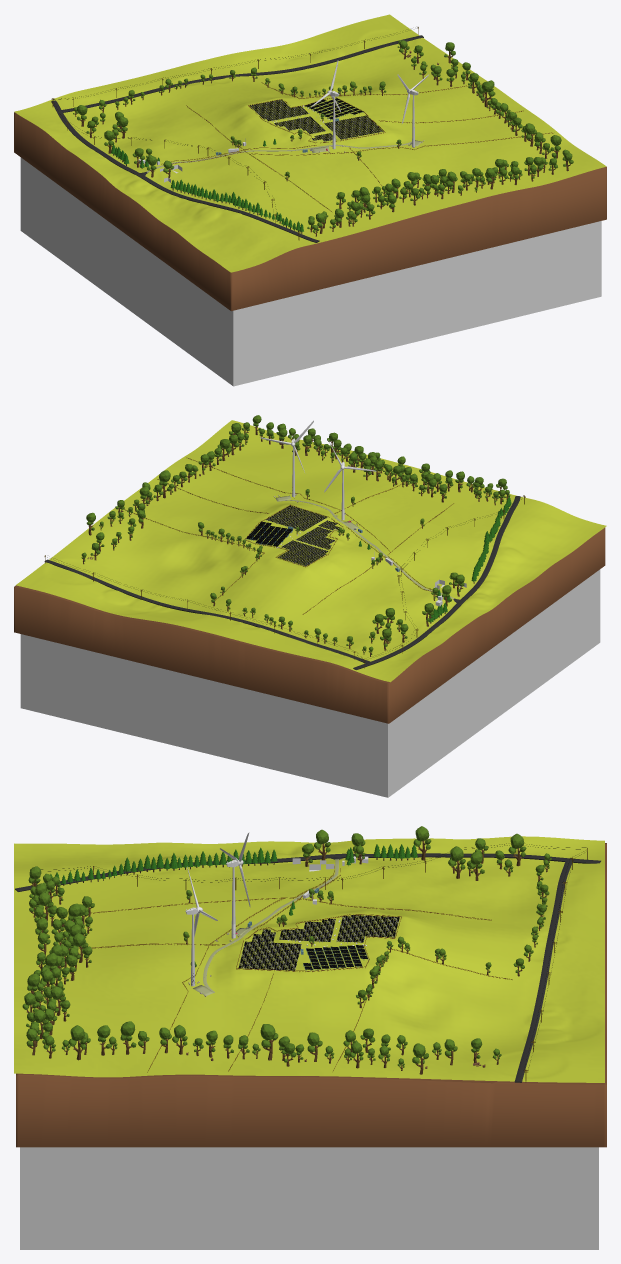
File: little-hepburn-energy-draco.glb
The picture shows the model from 3 angles, top to bottom: view 1: azimuth 30°, elevation 25°; view 2: azimuth 150°, elevation 25°; view 3: azimuth 270°, elevation 25°; orthographic projection. The views are drawn at different scales.
Visible parts, largest first — view 1: Grass, Base, Soil, Tree-group-south, Tree-group-east, Tree-group-west-02, Road-01, Tree-group-west-01, Tree-group-north, Road-02, solar-array-a-frame-01, solar-array-a-frame-04 (+2 smaller); view 2: Grass, Base, Soil, Tree-group-south, Tree-group-east, Tree-group-west-01, Road-01, Road-02, Tree-group-north, solar-array-a-frame-01, Tree-group-west-02, solar-array-a-frame-04 (+1 smaller); view 3: Grass, Base, Soil, Tree-group-south, Tree-group-east, Tree-group-west-02, Tree-group-west-01, Tree-group-north, Road-02, solar-array-a-frame-01, solar-array-a-frame-04, Road-01 (+3 smaller).
Part boxes in pixels (x1,y1,x2,y2): Grass: (14,14,606,272); Base: (20,157,601,386); Soil: (14,112,606,311); Tree-group-south: (307,153,573,236); Tree-group-east: (397,40,569,167); Tree-group-west-02: (111,144,303,233); Road-01: (51,100,319,242); Tree-group-west-01: (77,105,174,177); Tree-group-north: (73,67,386,116); Road-02: (61,35,423,112); solar-array-a-frame-01: (324,115,383,140); solar-array-a-frame-04: (250,99,308,121); Grass: (16,420,606,682); Base: (20,569,600,797); Soil: (14,527,605,723); Tree-group-south: (252,415,510,505); Tree-group-east: (81,422,264,564); Tree-group-west-01: (369,572,464,650); Road-01: (353,496,520,669); Road-02: (44,559,370,663); Tree-group-north: (198,522,373,656); solar-array-a-frame-01: (266,505,327,531); Tree-group-west-02: (428,496,511,623); solar-array-a-frame-04: (278,540,327,565); Grass: (14,836,604,1082); Base: (20,1147,598,1249); Soil: (16,843,606,1147); Tree-group-south: (22,866,94,1055); Tree-group-east: (42,1021,501,1074); Tree-group-west-02: (50,844,417,885); Tree-group-west-01: (302,826,526,880); Tree-group-north: (356,853,551,1008); Road-02: (514,860,571,1082); solar-array-a-frame-01: (238,941,301,970); solar-array-a-frame-04: (336,915,399,943); Road-01: (15,853,600,891).
Bounding box in the file's own units: 502 × 279 × 502.
Materials: 45 (2 with a texture image).
